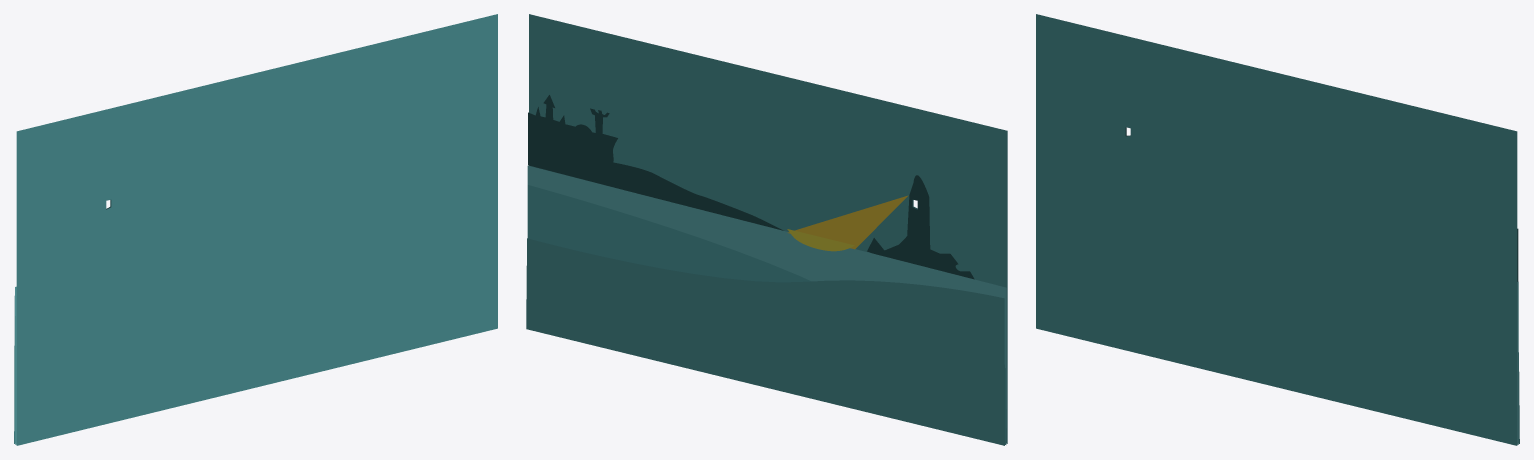
The model's file is LighthouseFBXNew.fbx.
3 renders of one model, left to right at view 1: azimuth 30°, elevation 25°; view 2: azimuth 150°, elevation 25°; view 3: azimuth 330°, elevation 25°, orthographic.
Parts seen in each view (by area): view 1: Curve; view 2: Curve, Curve.006, Curve.003, Curve.004, Curve.001, Curve.002, Curve.007, Curve.008; view 3: Curve.
Boxes of the visible parts, bbox=[...] form: Curve: bbox=[16, 14, 497, 445]; Curve: bbox=[529, 14, 1007, 443]; Curve.006: bbox=[526, 238, 1004, 445]; Curve.003: bbox=[527, 165, 1006, 427]; Curve.004: bbox=[527, 185, 1006, 444]; Curve.001: bbox=[528, 95, 783, 230]; Curve.002: bbox=[867, 175, 974, 279]; Curve.007: bbox=[787, 195, 908, 249]; Curve.008: bbox=[787, 229, 854, 251]; Curve: bbox=[1036, 14, 1517, 445].
Size of the model in its own units: 80.06 by 49.99 by 0.766.
